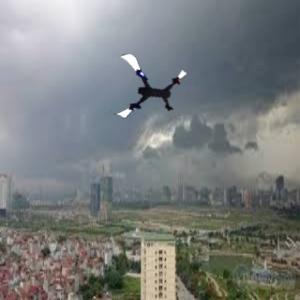drone: (110, 56, 184, 130)
